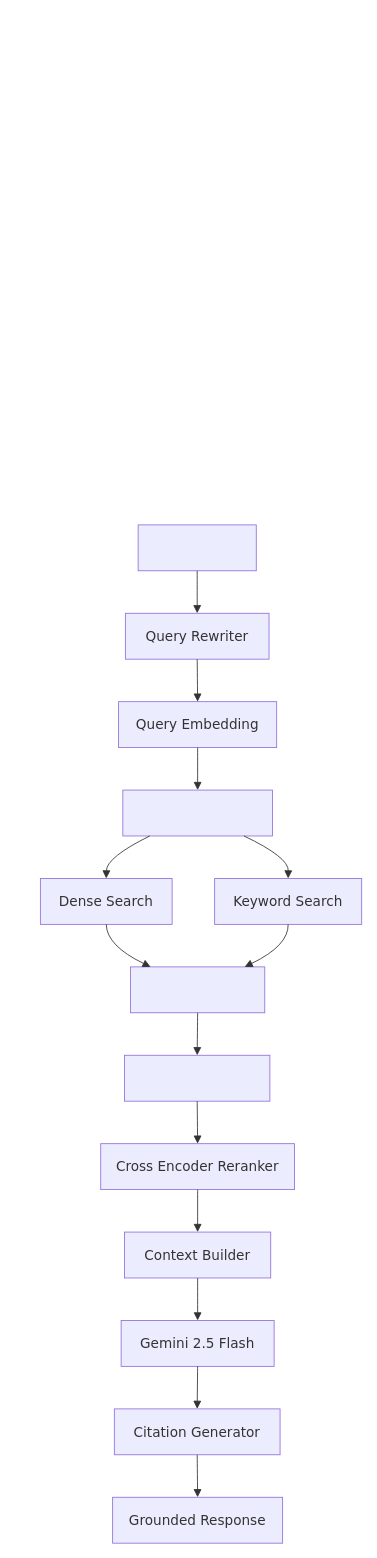
The diagram is 377 pixels wide and 1558 high, and some of its shapes have lost their labels. The box of each missing label's shape, as (x1, y1, x2, y2) in pixels:
Hybrid Retrieval: (122, 789, 272, 836)
Merge Results: (130, 966, 265, 1013)
Metadata Filter: (124, 1054, 270, 1101)
User Query: (137, 524, 256, 571)
